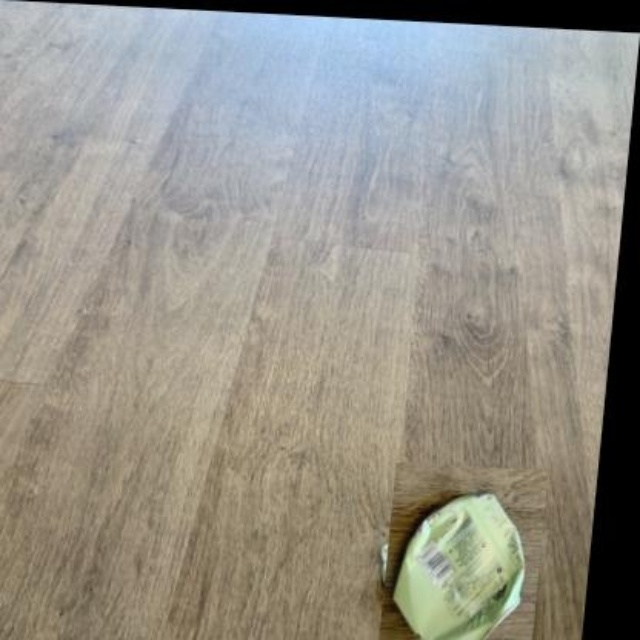trash: (394, 494, 523, 638)
